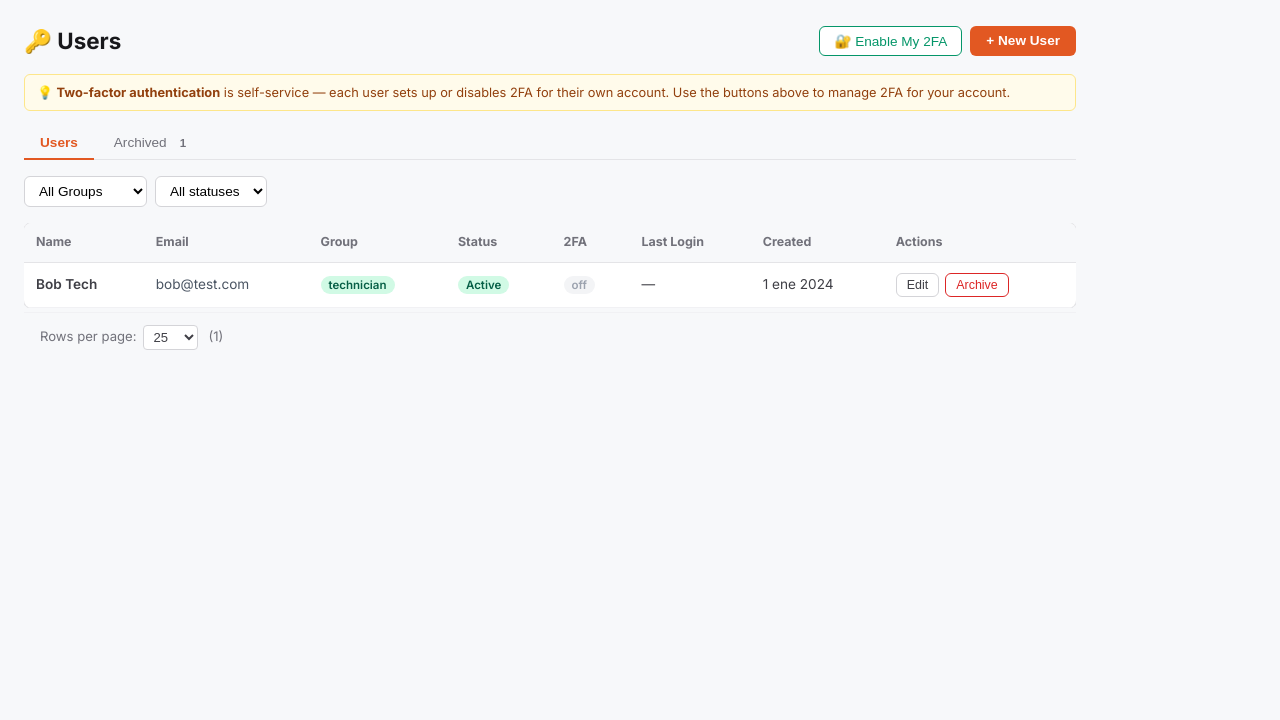
Scenario: UserList page › New User modal — group + organization access › defaults the group to the system "support" group and checks the current org
The width and height of the screenshot is (1280, 720).
Expected: the text "bob@test.com" is shown, [144,262,308,307]
Click the button "+ New User": point(1023, 41) [970,26,1076,56]
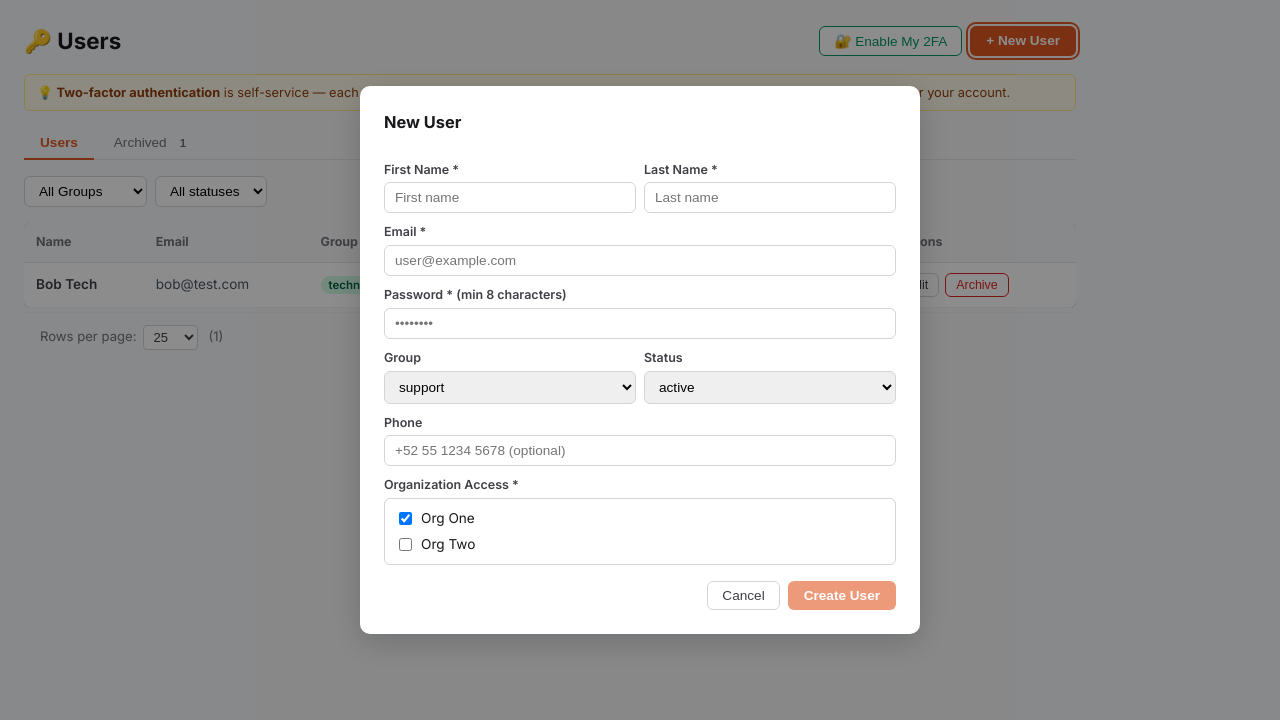
Expected: the dropdown named "Group" shows "support", [384,371,636,404]
Expected: the checkbox labelled "Org One" is checked, [399,512,412,525]
Expected: the checkbox labelled "Org Two" is not checked, [399,538,412,551]
